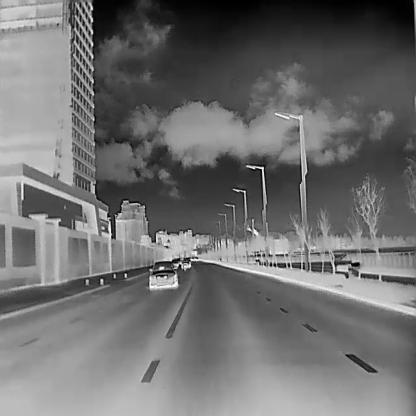car: (148, 260, 178, 288), (179, 257, 190, 268), (170, 258, 178, 268)
